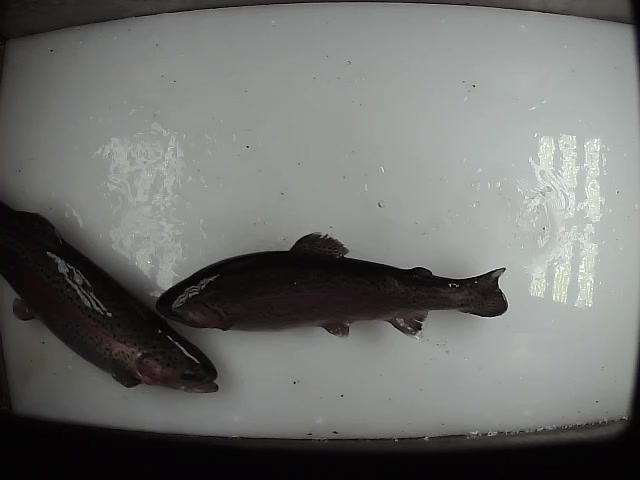fish: (1, 200, 227, 398), (152, 230, 512, 331)
